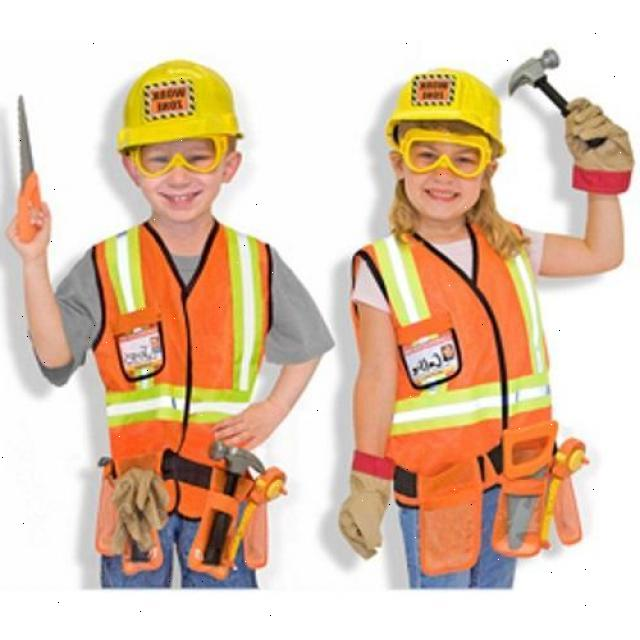Hard_hat: (113, 56, 245, 162), (376, 65, 508, 158)
Vest: (89, 225, 274, 486), (364, 218, 535, 498)
